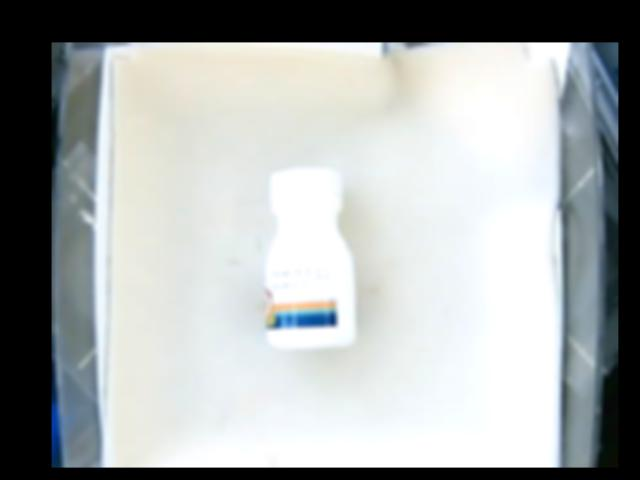Bottle: (264, 170, 357, 348)
